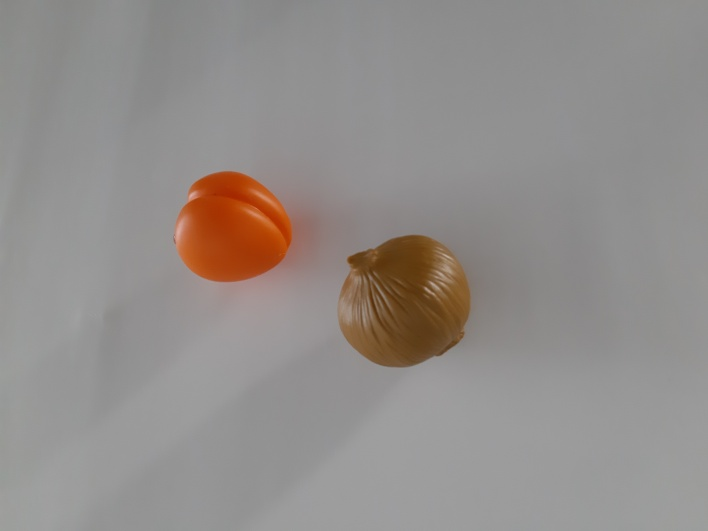apricot: (166, 161, 301, 293)
onion: (322, 222, 483, 378)
